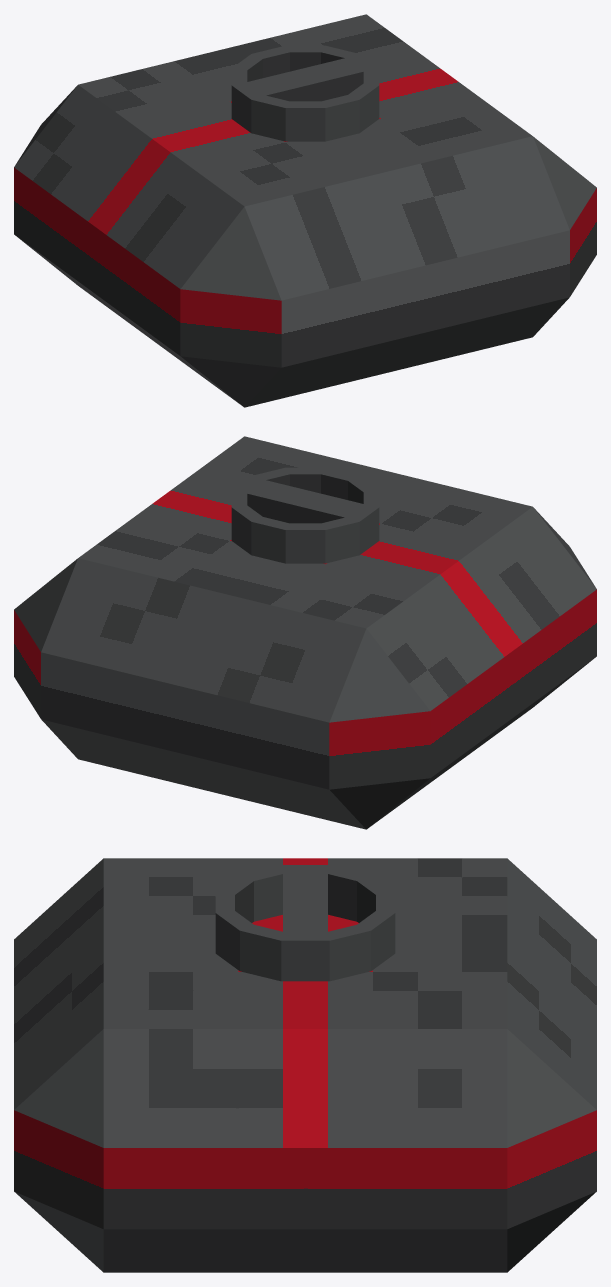
The model's file is Ability.fbx.
The picture shows the model from 3 angles, top to bottom: view 1: azimuth 30°, elevation 25°; view 2: azimuth 150°, elevation 25°; view 3: azimuth 270°, elevation 25°; orthographic projection. The views are drawn at different scales.
Parts seen in each view (by area): view 1: cube; view 2: cube; view 3: cube.
Boxes of the visible parts, box(x1,y1,x2,y2) form: cube: box(14, 14, 596, 407); cube: box(14, 436, 596, 829); cube: box(14, 858, 596, 1272).
Bounding box in the file's own units: 81.25 × 43.75 × 81.25.
Materials: 1 (1 with a texture image).
